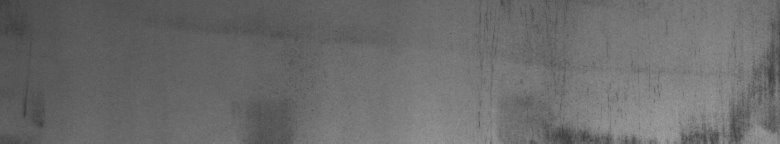ka: (684, 60, 776, 136)
